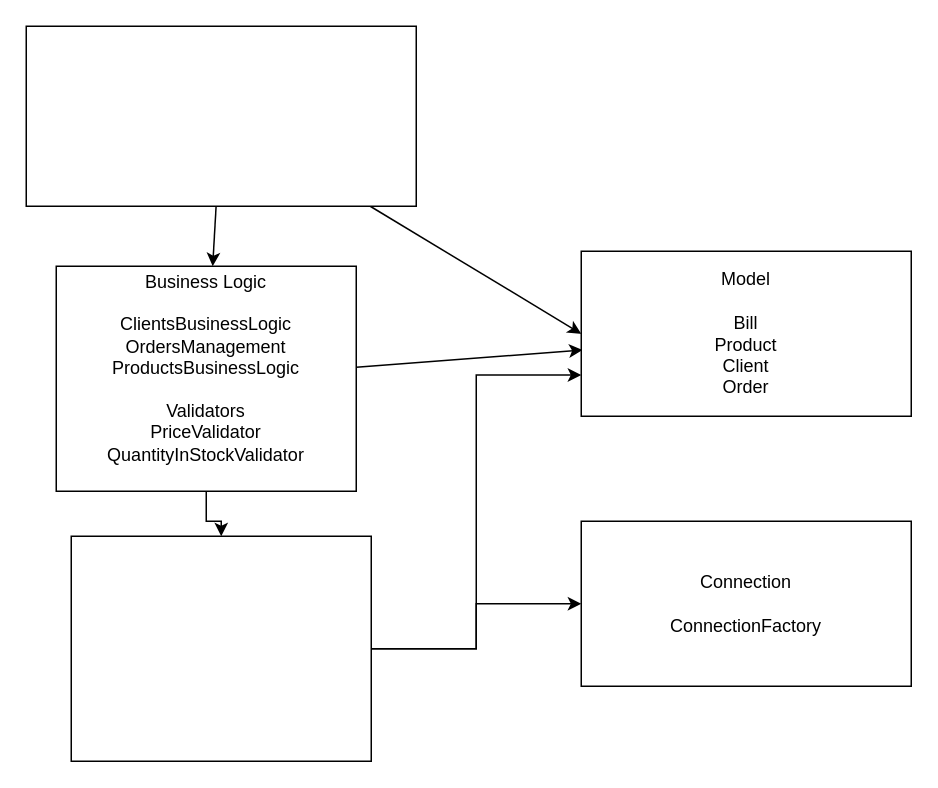
Some shapes in this 938 by 788 pixel diagram are drawn without their labels. Each missing label, with the centre of its shape:
"DataAccess ClientDataAccess LogDataAccess ProductDataAccess OrderDataAccess" belongs at point (220, 648).
"GUI MainFrame OrdersFrame ProductsFrame BillsFrame TableGenerator ClientsFrame" belongs at point (220, 115).
